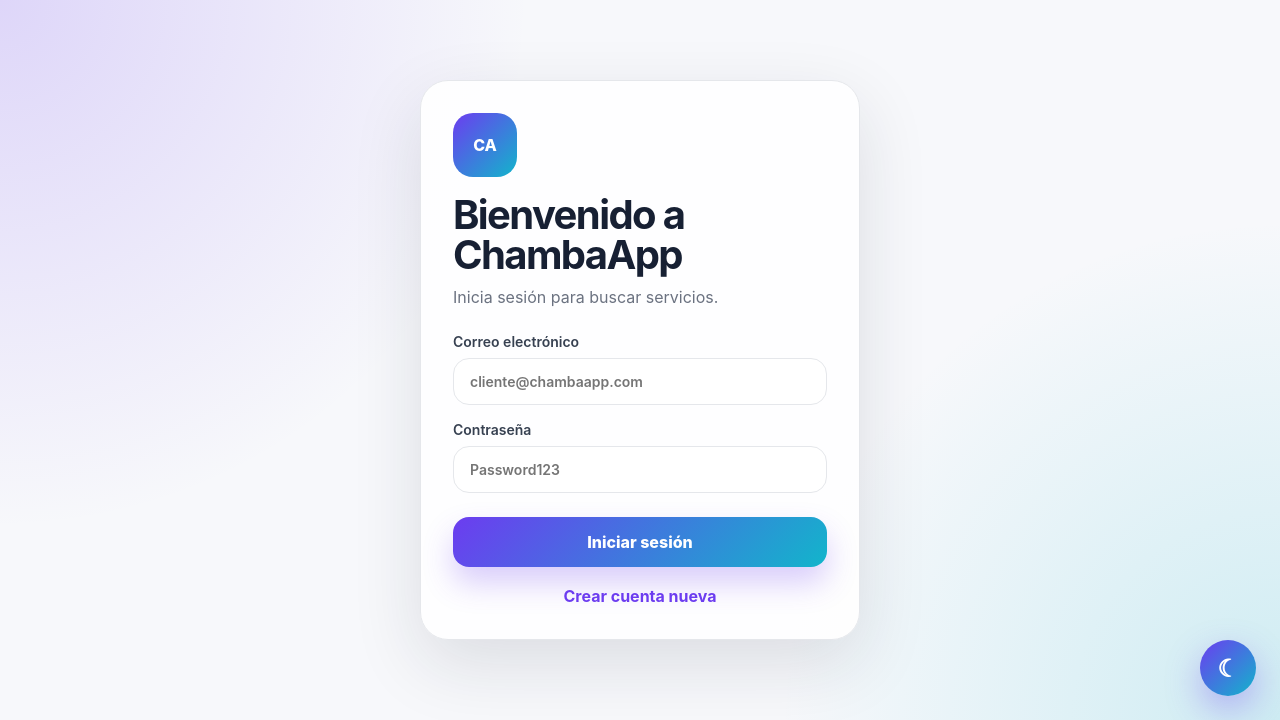
it: Autenticación › Login › debe mostrar error con credenciales inválidas
Type "noexiste@mail.com" into the field labelled "Correo electrónico" at (640, 382), box [453,358,827,405]
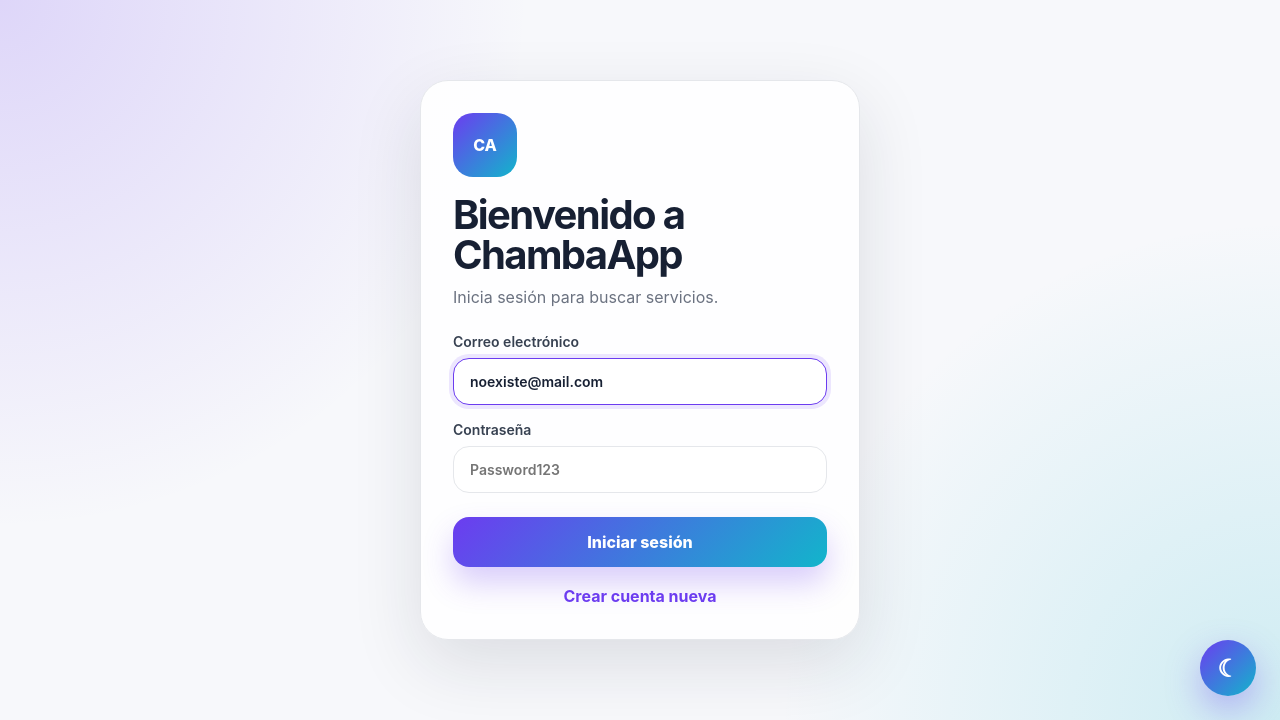
Type "wrong123" into the password field labelled "Contraseña" at (640, 470), box [453,446,827,493]
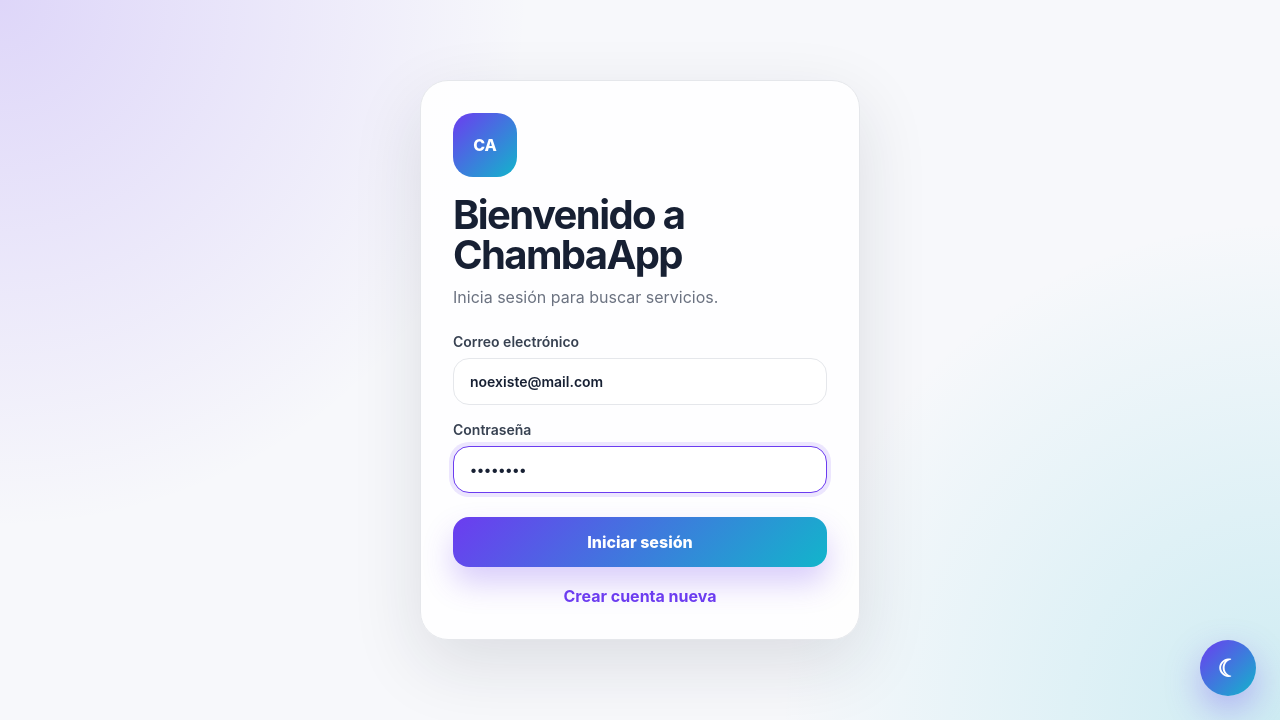
Click the button "Iniciar sesión" at (640, 542), box [453,517,827,567]
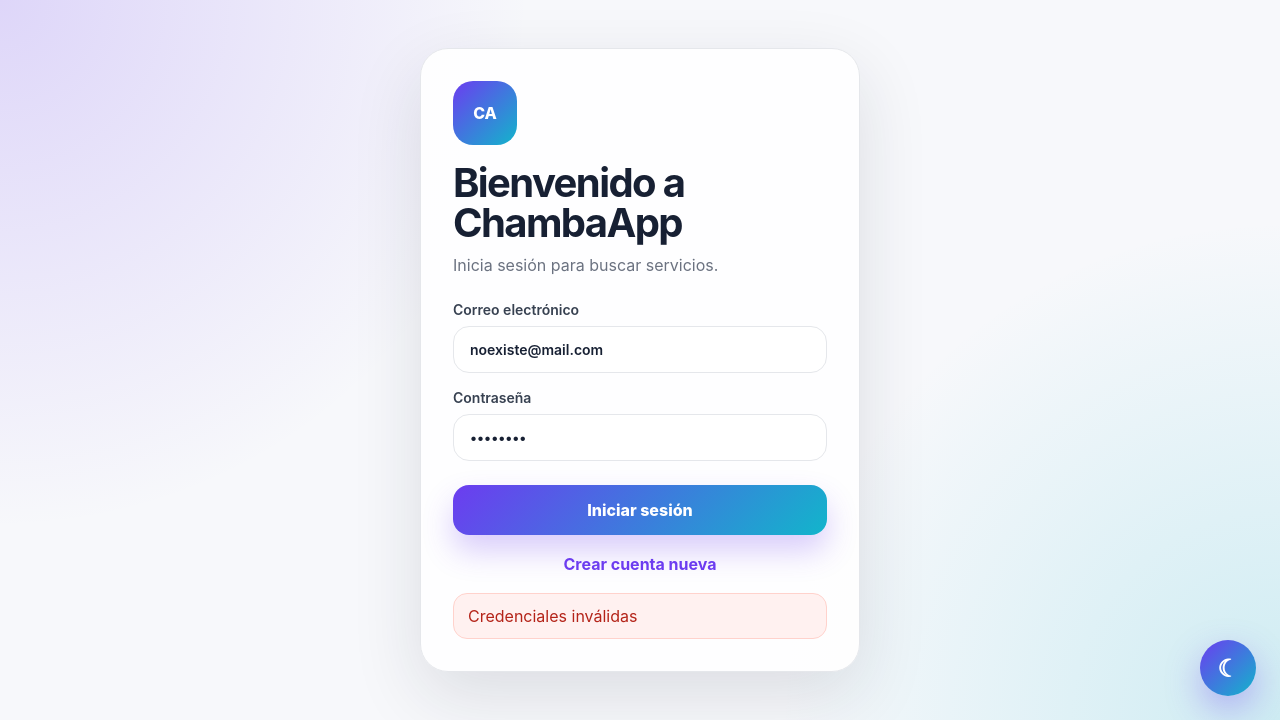
Expected: the text "Credenciales inválidas" is shown, [453,593,827,639]
